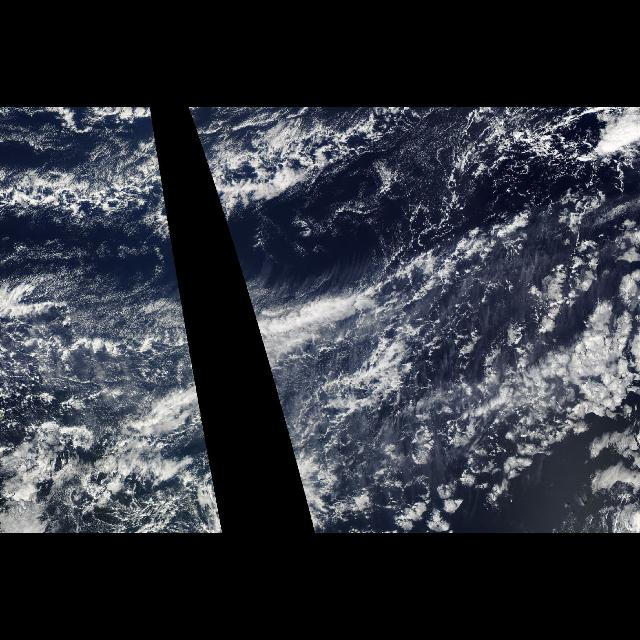Fish: (190, 112, 528, 356), (0, 112, 170, 224)
Flower: (365, 228, 633, 497)
Gravel: (430, 319, 618, 483)
Sugar: (4, 228, 198, 386)
